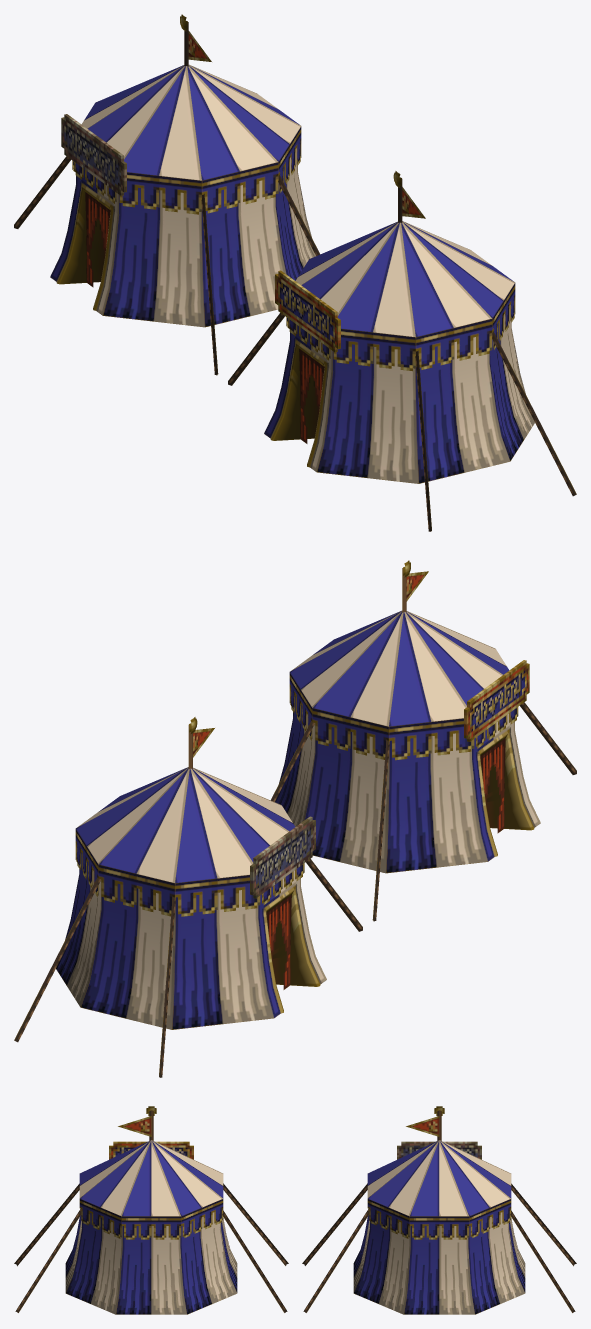
The model's file is ObjMD_Ev_Circus_A.FBX.
3 renders of one model, top to bottom at view 1: azimuth 30°, elevation 25°; view 2: azimuth 150°, elevation 25°; view 3: azimuth 270°, elevation 25°, orthographic. The views are drawn at different scales.
Visible parts, largest first — view 1: ObjMD_Ev_Circus_B, ObjMD_Ev_Circus_A; view 2: ObjMD_Ev_Circus_A, ObjMD_Ev_Circus_B; view 3: ObjMD_Ev_Circus_A, ObjMD_Ev_Circus_B.
Boxes of the visible parts, box(x1,y1,x2,y2) form: ObjMD_Ev_Circus_B: box(228, 171, 576, 531); ObjMD_Ev_Circus_A: box(14, 14, 320, 375); ObjMD_Ev_Circus_A: box(14, 717, 362, 1077); ObjMD_Ev_Circus_B: box(270, 560, 576, 921); ObjMD_Ev_Circus_A: box(302, 1106, 576, 1314); ObjMD_Ev_Circus_B: box(14, 1106, 288, 1314).
Bounding box in the file's own units: 509 × 591 × 1657.
